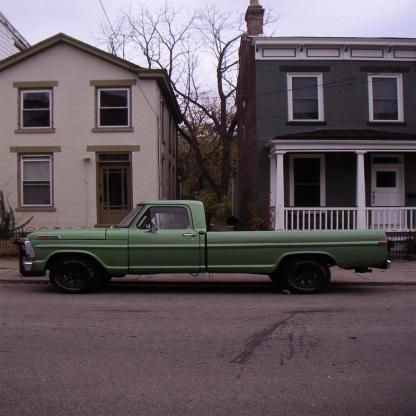Truck: (11, 198, 400, 296)
